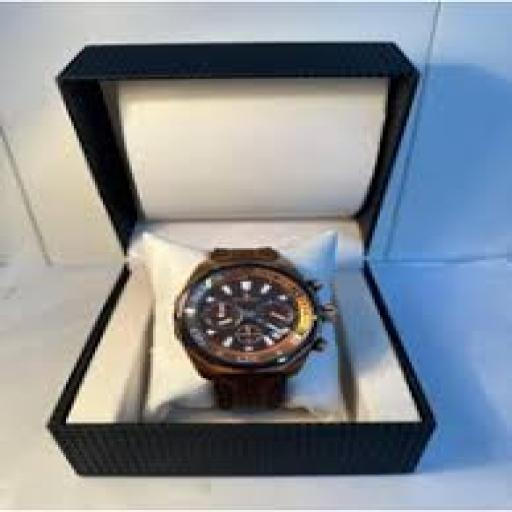KolSaati: (155, 240, 355, 415)
